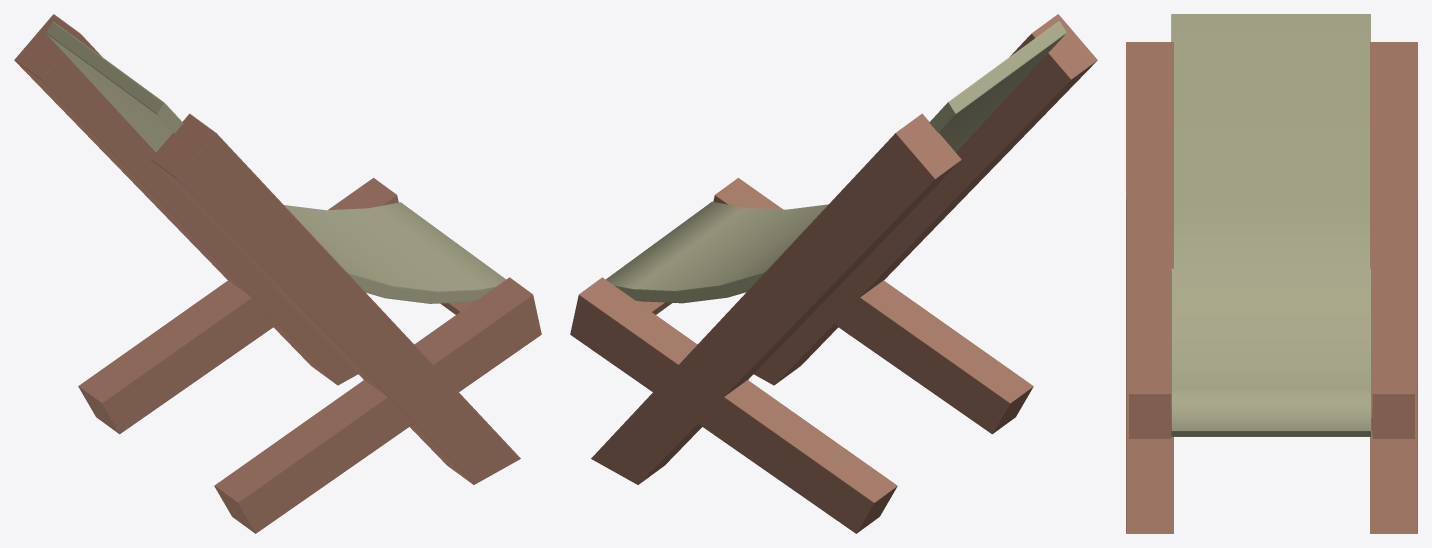
File: chair.fbx
3 renders of one model, left to right at view 1: azimuth 30°, elevation 25°; view 2: azimuth 150°, elevation 25°; view 3: azimuth 270°, elevation 25°, orthographic. The views are drawn at different scales.
Parts seen in each view (by area): view 1: Plane; view 2: Plane; view 3: Plane.
Part boxes in pixels (x1,y1,x2,y2): Plane: (14, 14, 541, 533); Plane: (570, 14, 1097, 533); Plane: (1126, 14, 1417, 533).
Bounding box in the file's own units: 57.16 × 64.06 × 43.64.
